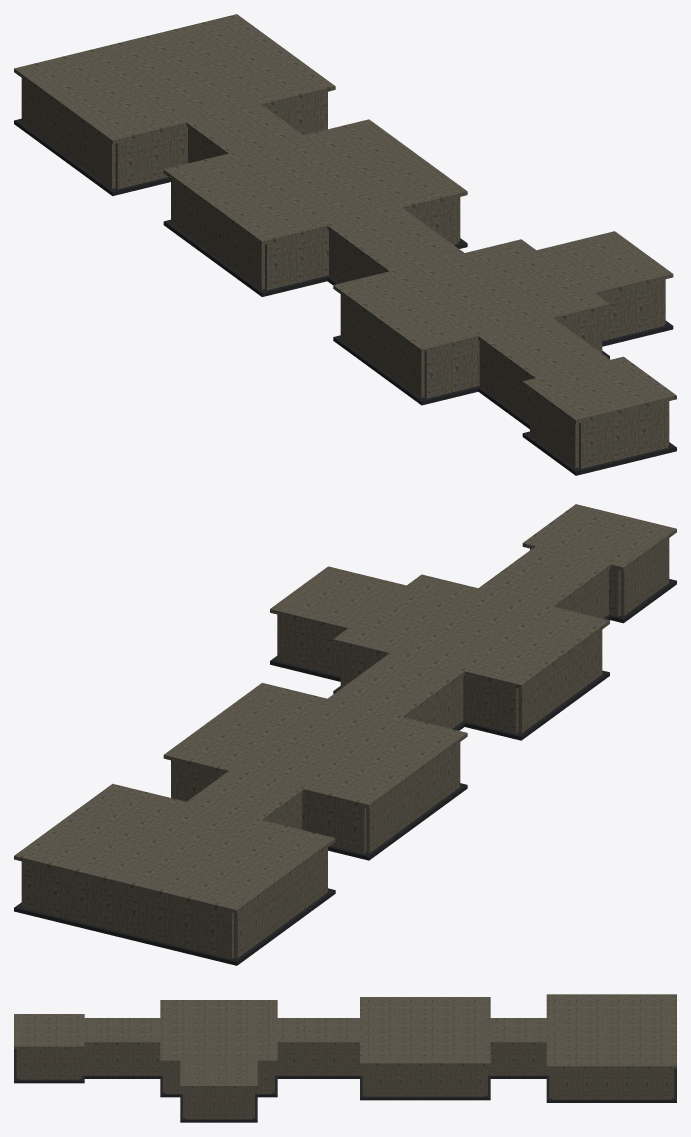
File: prop_hollowed_crypt.glb
3 views of the same model, one above another, from view 1: azimuth 30°, elevation 25°; view 2: azimuth 150°, elevation 25°; view 3: azimuth 270°, elevation 25° (orthographic). The views are drawn at different scales.
Parts seen in each view (by area): view 1: prop_hollowed_crypt; view 2: prop_hollowed_crypt; view 3: prop_hollowed_crypt.
Part boxes in pixels (bbox=[...]): prop_hollowed_crypt: bbox=[14, 14, 676, 475]; prop_hollowed_crypt: bbox=[14, 504, 676, 965]; prop_hollowed_crypt: bbox=[14, 994, 676, 1122].
Bounding box in the file's own units: 16.3 × 3.05 × 49.8.
Materials: 5 (5 with a texture image).
